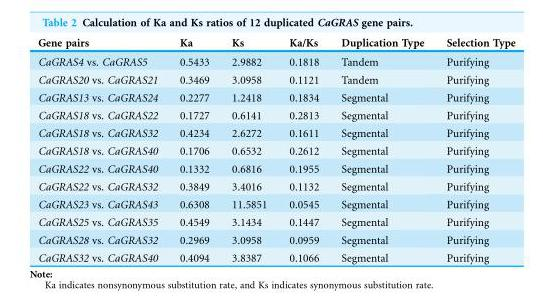table: (37, 37, 514, 263)
table column: (37, 37, 167, 263), (329, 37, 434, 263), (434, 37, 514, 263), (219, 37, 277, 263), (167, 37, 219, 263), (277, 37, 329, 263)
table column header: (37, 37, 514, 52)
table row: (37, 52, 514, 71), (37, 88, 514, 106), (37, 106, 514, 124), (37, 124, 514, 142), (37, 142, 514, 160), (37, 177, 514, 195), (37, 195, 514, 213), (37, 213, 514, 231), (37, 231, 514, 249), (37, 71, 514, 88), (37, 160, 514, 177), (37, 37, 514, 52), (37, 249, 514, 263)
